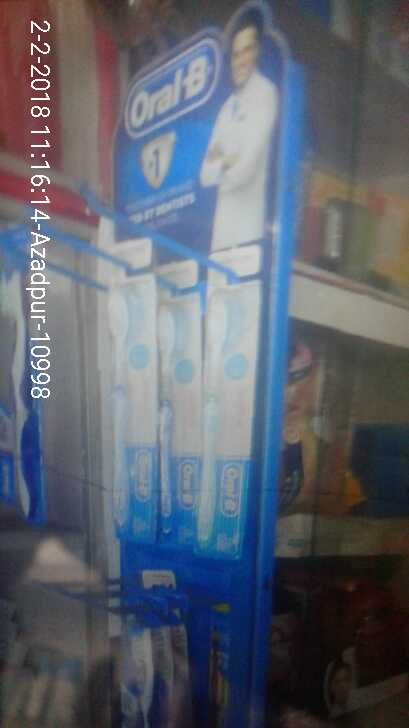oralb: (1, 230, 51, 520), (187, 278, 236, 544), (93, 290, 140, 538), (150, 293, 188, 552)
